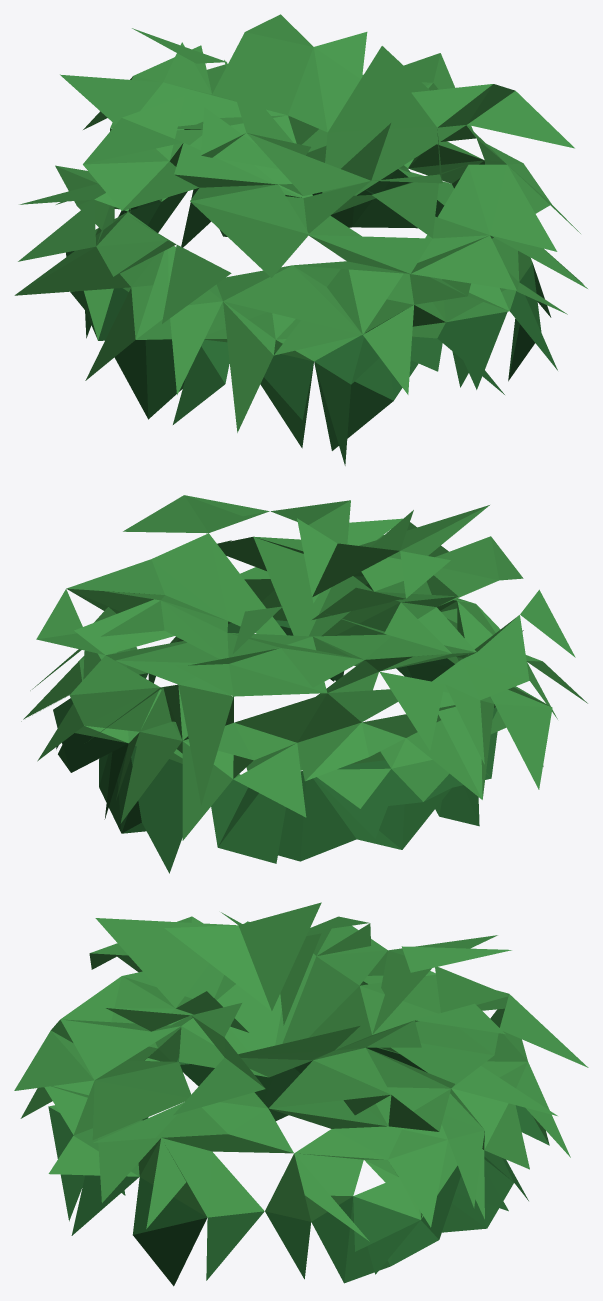
Rendered from bush-4.glb.
3 views of the same model, one above another, from view 1: azimuth 30°, elevation 25°; view 2: azimuth 150°, elevation 25°; view 3: azimuth 270°, elevation 25° (orthographic). The views are drawn at different scales.
Parts seen in each view (by area): view 1: output_unwrapped; view 2: output_unwrapped; view 3: output_unwrapped.
Part boxes in pixels (<box>): output_unwrapped: <box>14,14,587,465</box>; output_unwrapped: <box>21,495,587,873</box>; output_unwrapped: <box>14,902,588,1286</box>.
Size of the model in its own units: 1.46 by 0.8989 by 1.6.
